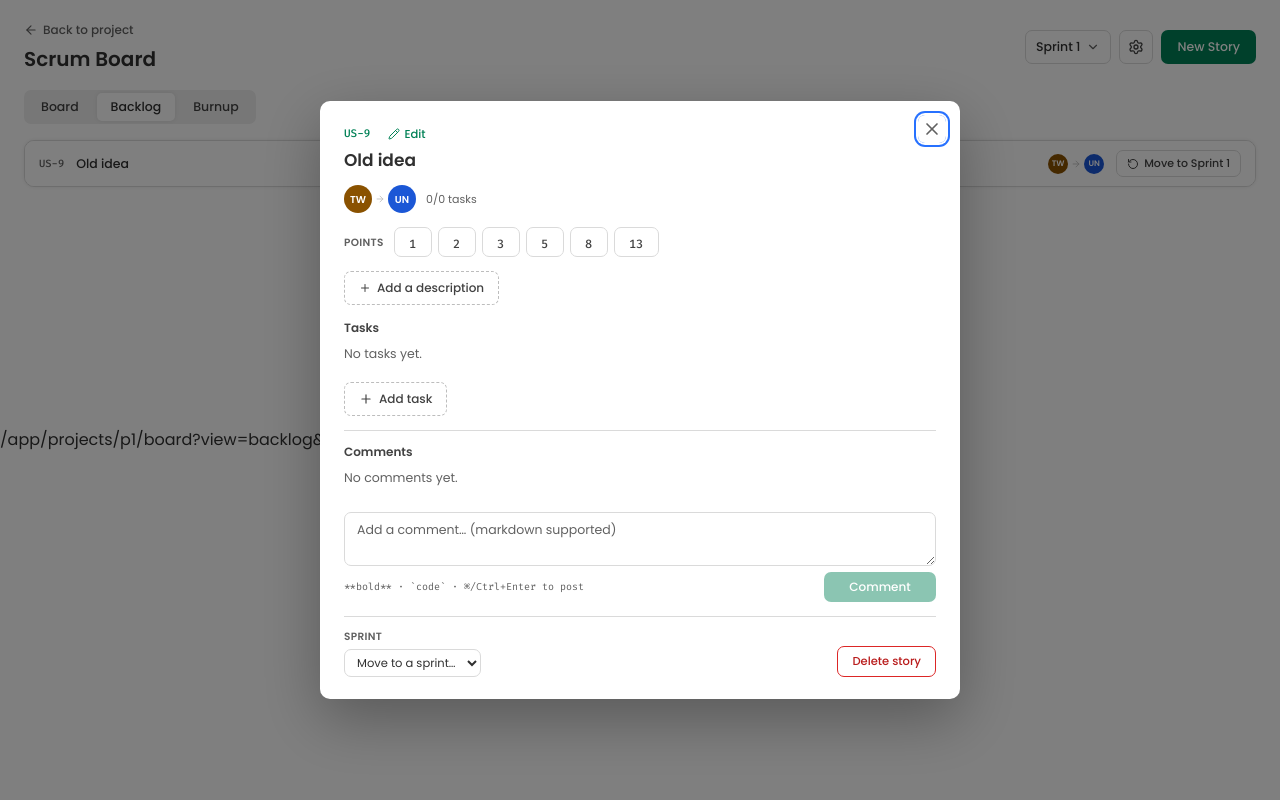
Scenario: ScrumBoardPage story detail › deletes a backlog story and closes it
Click the button "Delete story" at (887, 661), box [837, 646, 936, 677]
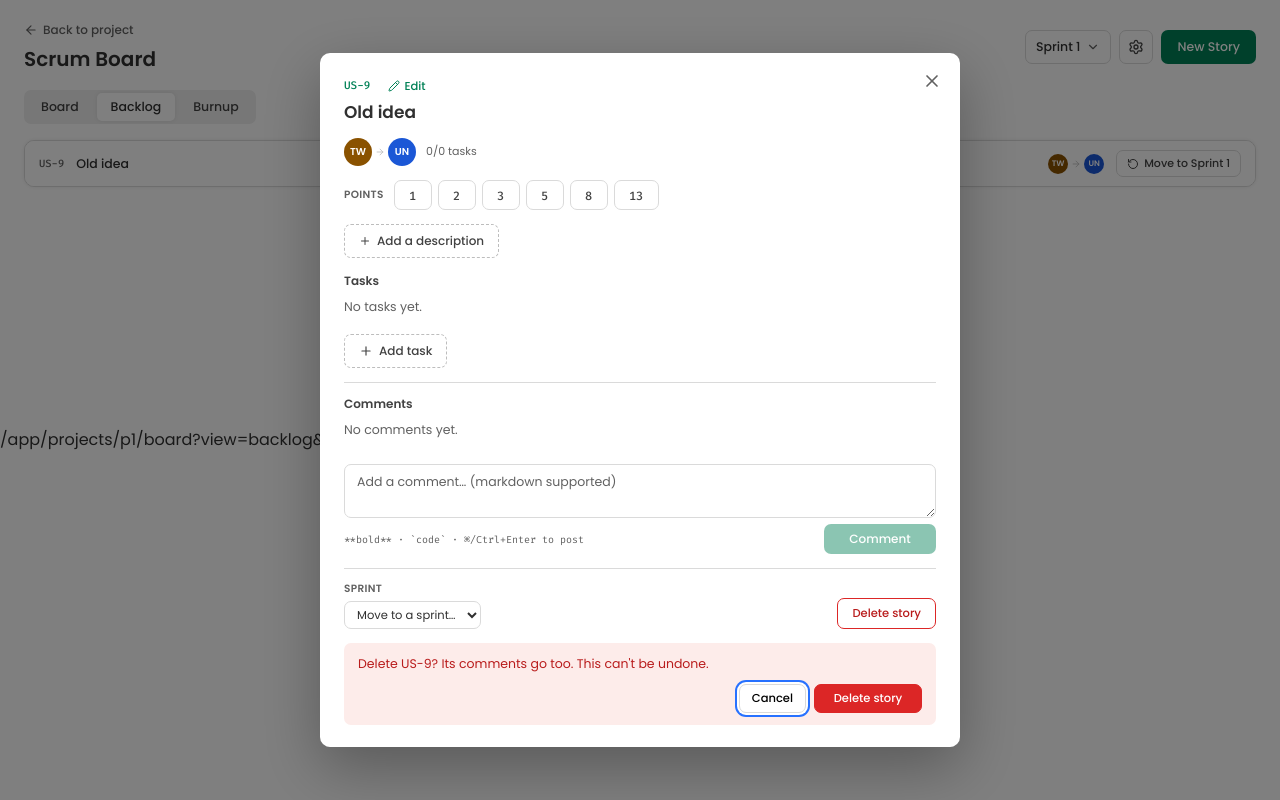
Click the 2nd button "Delete story" at (868, 698), box [814, 684, 922, 712]
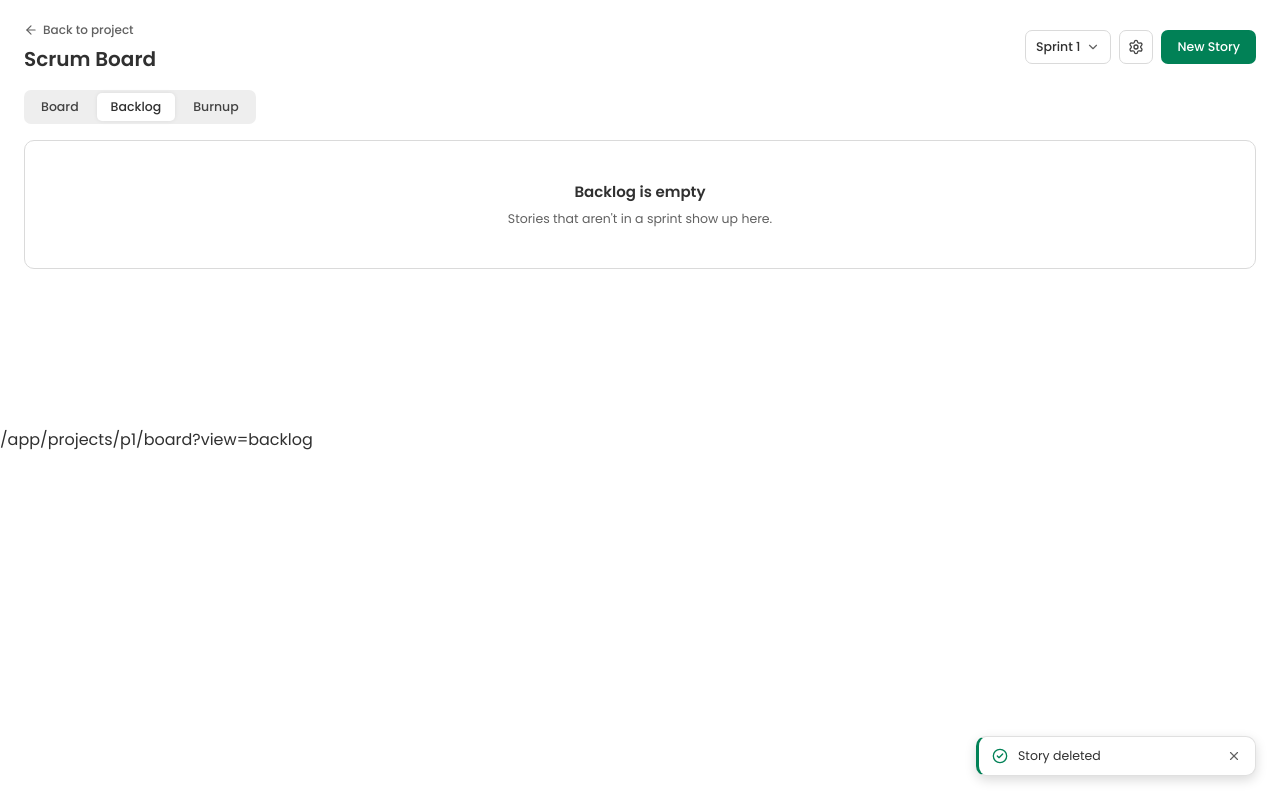
Now the dialog is gone
Now the text with test id "path" reads "/app/projects/p1/board?view=backlog", box [0, 428, 313, 451]
